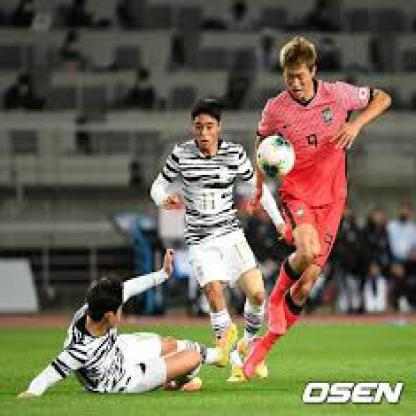Fall_Down: (19, 248, 242, 404)
